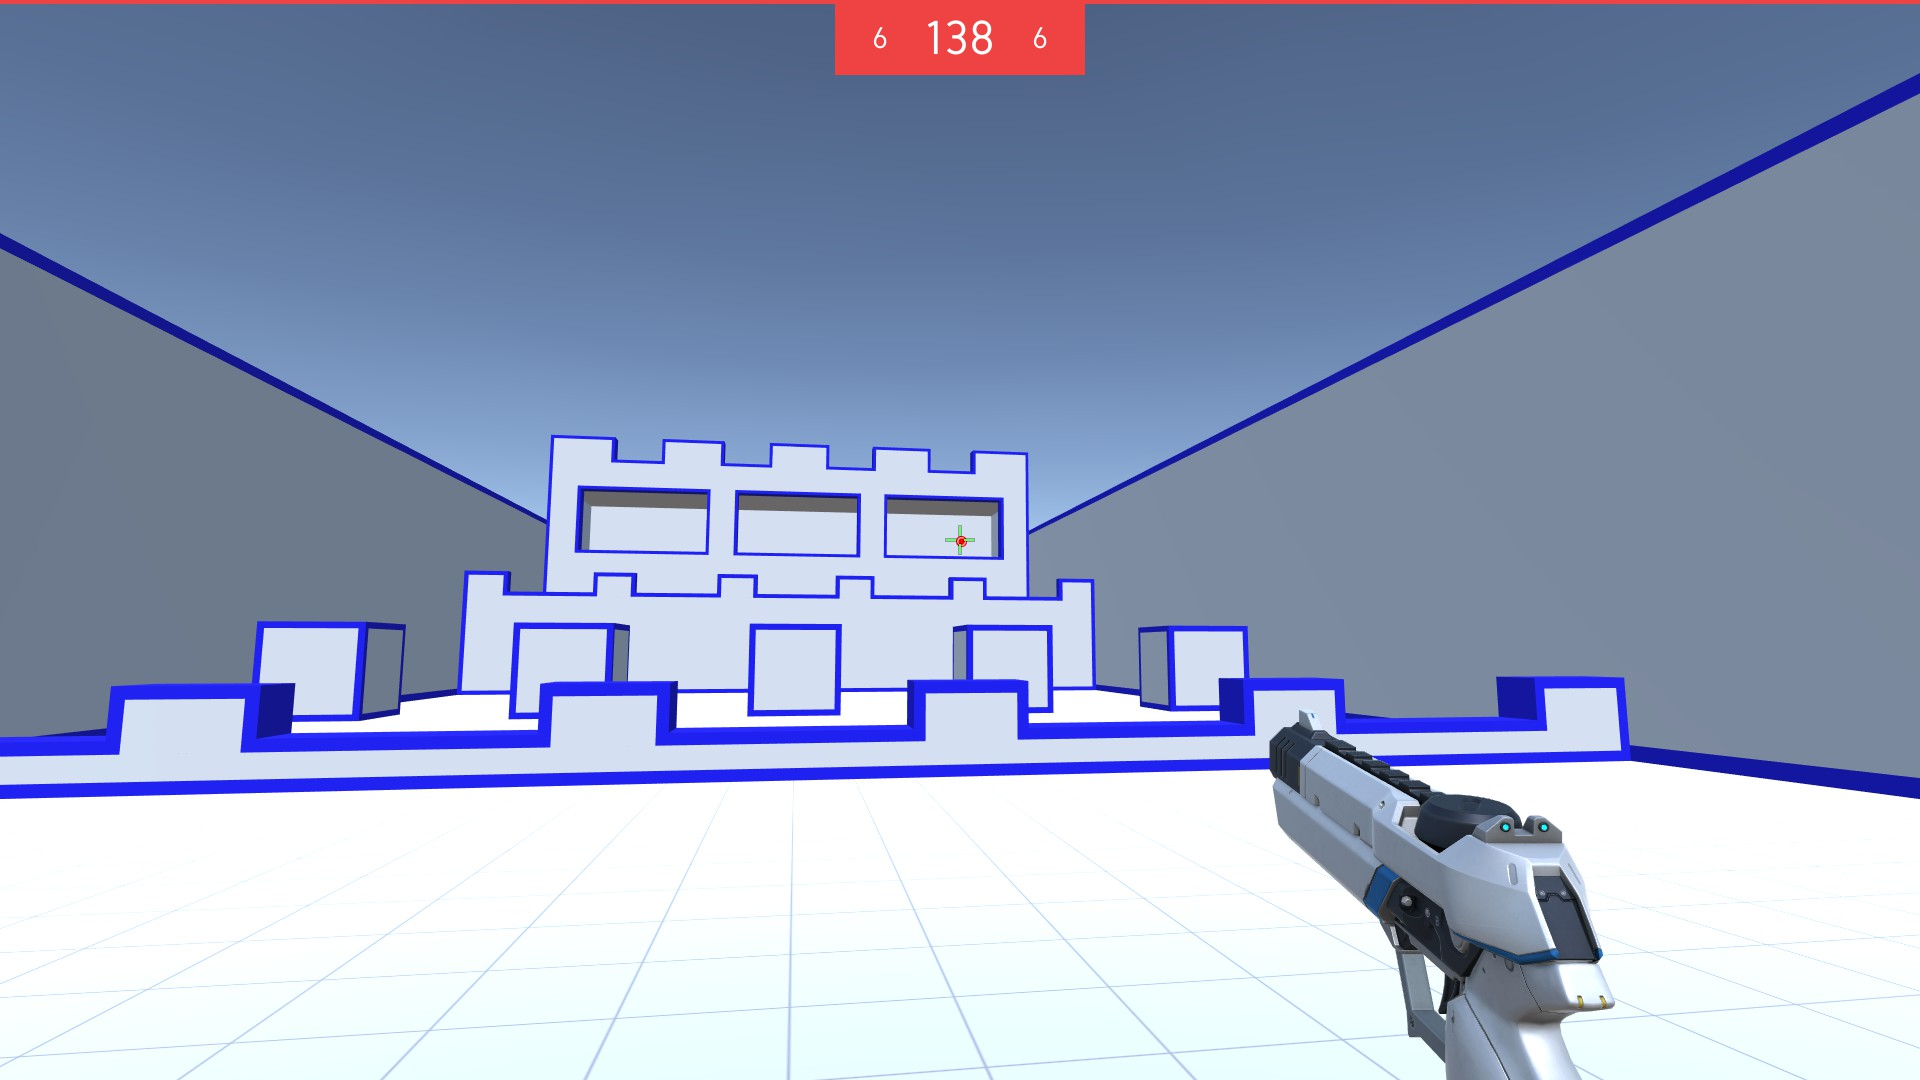target: (953, 535, 968, 550)
